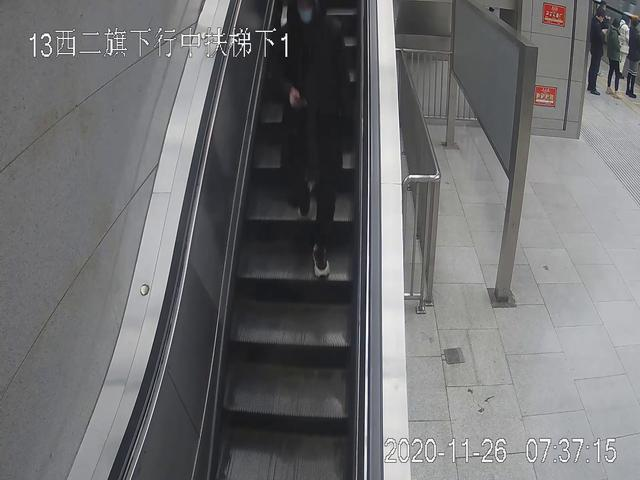person: (268, 3, 354, 277), (604, 19, 625, 97), (587, 10, 605, 96)
